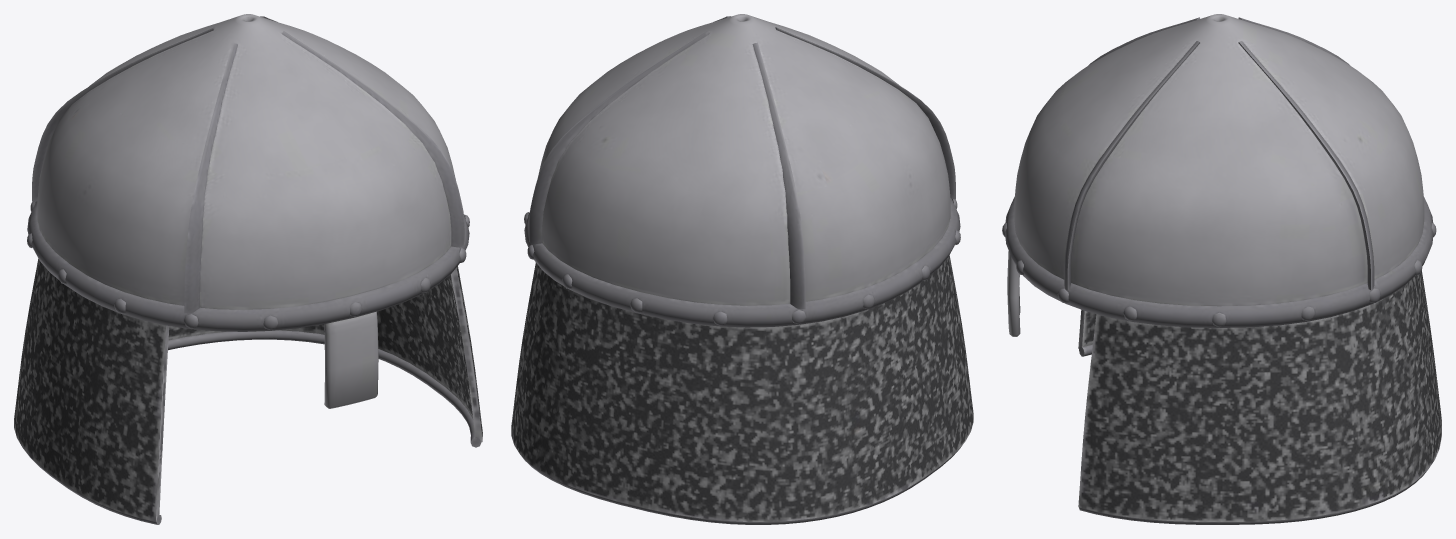
Rendered from iron_helmet.fbx.
3 views of the same model, side by side, from view 1: azimuth 30°, elevation 25°; view 2: azimuth 150°, elevation 25°; view 3: azimuth 270°, elevation 25° (orthographic).
Parts seen in each view (by area): view 1: Head; view 2: Head; view 3: Head.
Boxes of the visible parts, x1,y1,x2,y2 form: Head: (14,14,482,524); Head: (511,14,973,524); Head: (1002,14,1441,524).
Size of the model in its own units: 1.65 by 1.7 by 1.63.
1 material, 1 textured.
